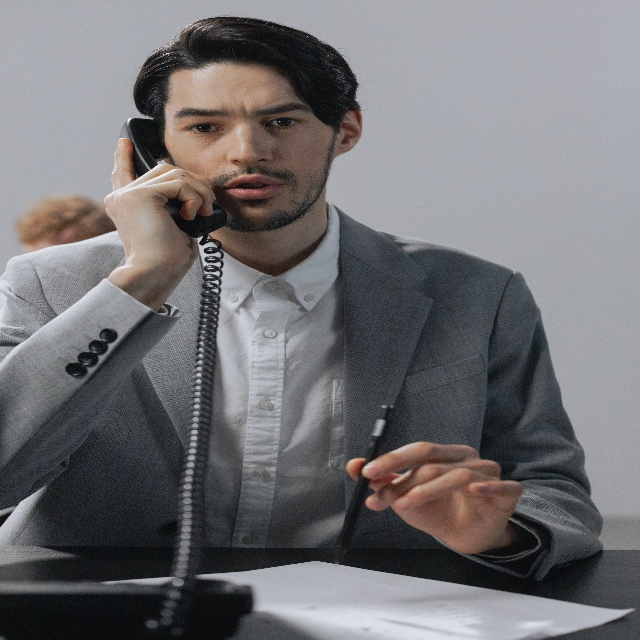Sin_guantes: (346, 441, 523, 555), (104, 138, 217, 274)
